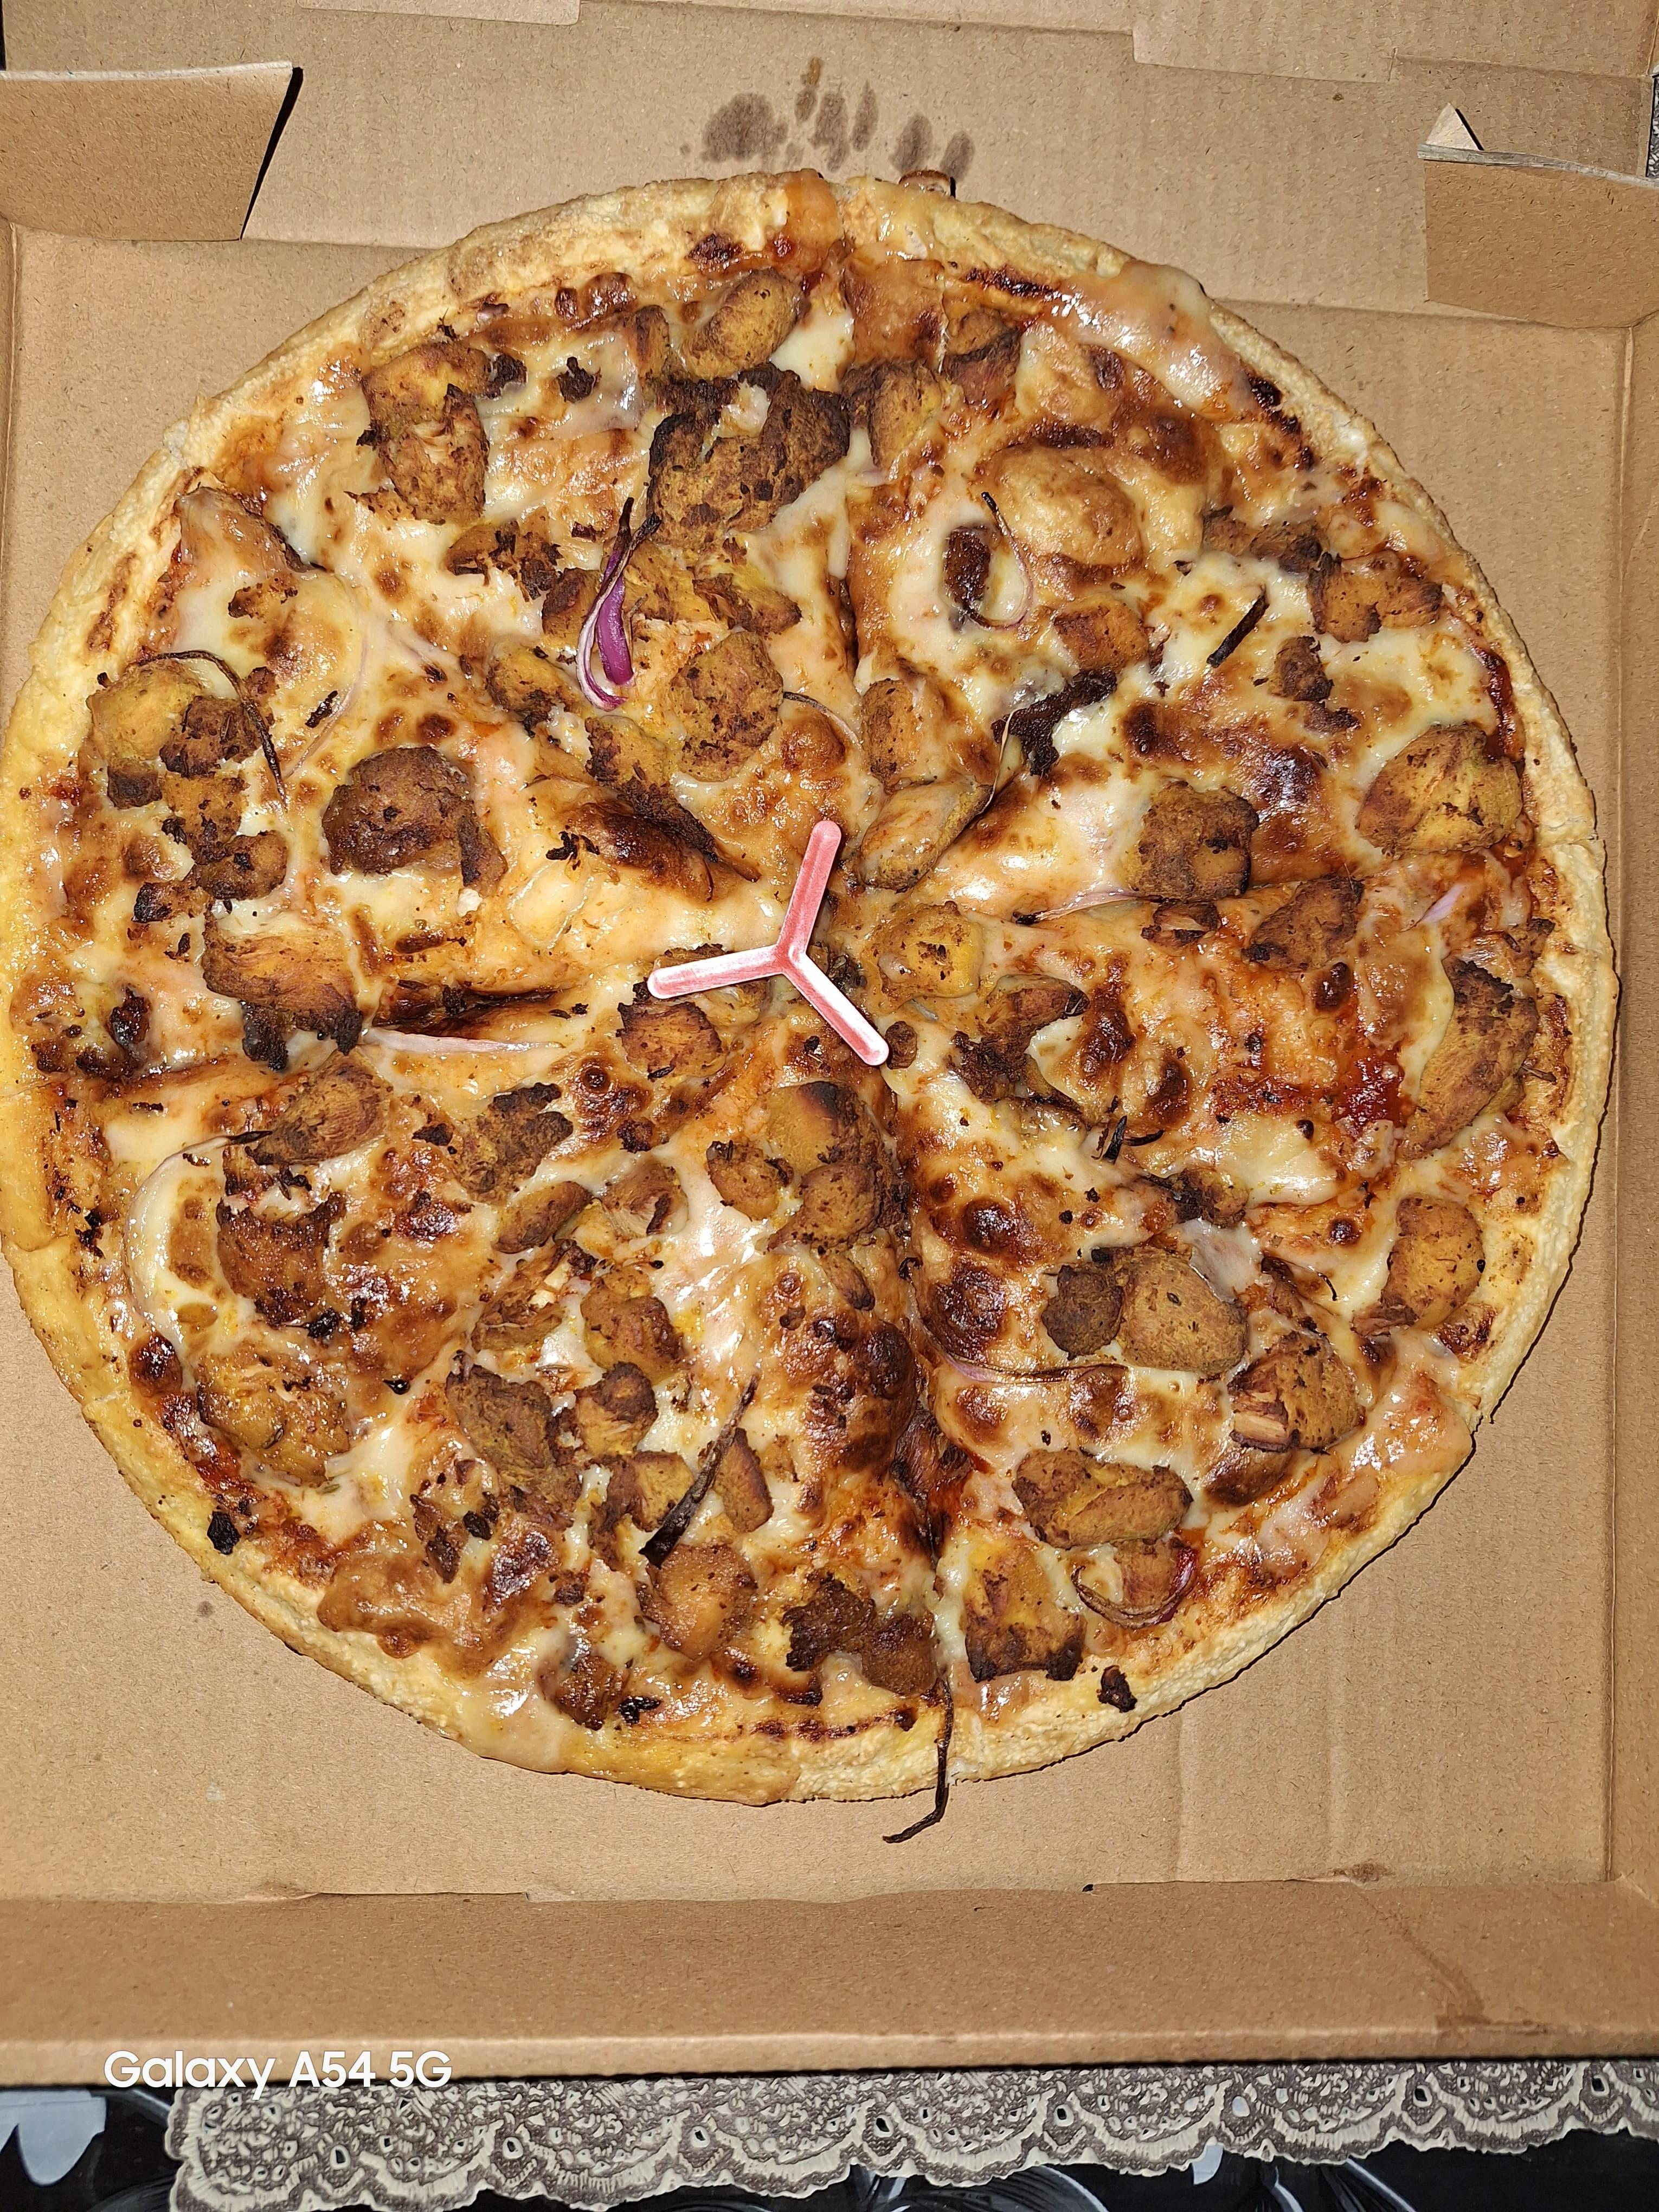non-mango: (3, 167, 1619, 1810)
